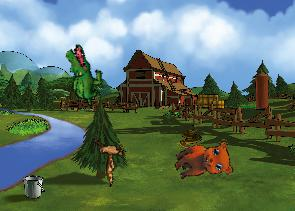bear: (169, 133, 238, 193)
crocodile: (50, 41, 116, 110)
eagle: (82, 128, 138, 187)
